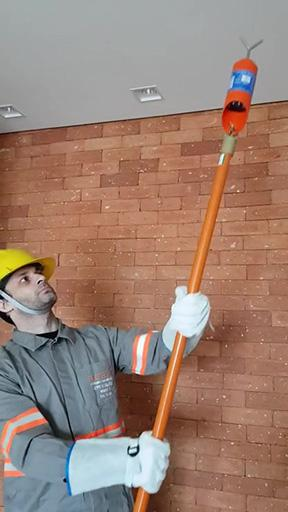Detector_Tensao_Contato: (219, 35, 264, 135)
Vara_Manobra: (131, 137, 237, 512)
